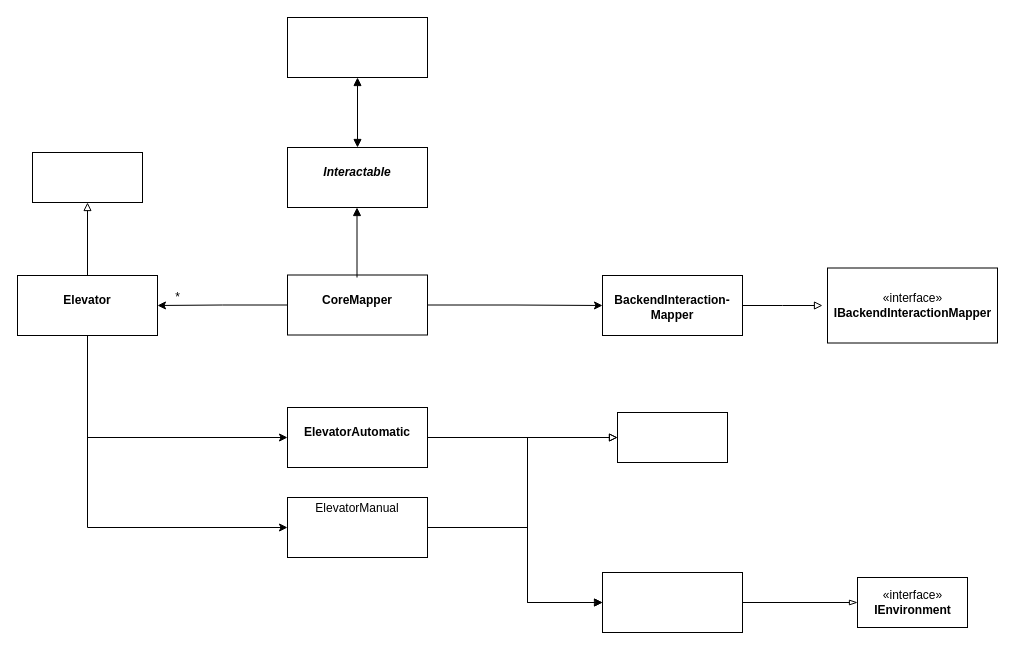
This 1015x650 diagram has some shape labels left out. The centre of each missing label's shape, as x and y in pixels:
Environment: the point at 672,602
JavaFX UI: the point at 357,47
«interface» IElevator: the point at 87,177
«interface» IElevatorMode: the point at 672,437
